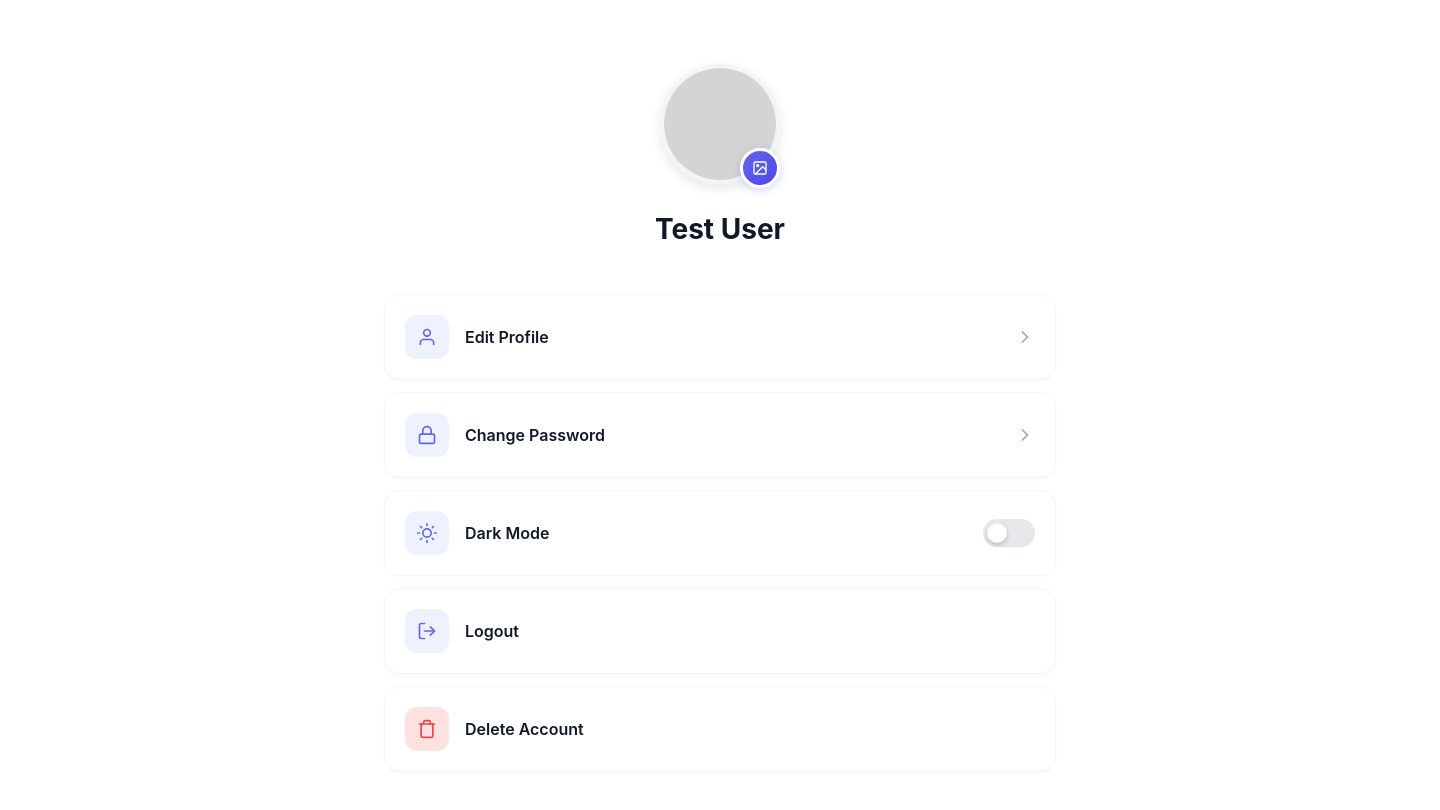
Test: MyProfilePage - Delete Account › Delete Account Button › should open confirmation modal when Delete Account button is clicked
Expected: the text "Delete Account" is shown, x1=465 y1=719 x2=584 y2=739
Step 1. Click the button "Delete Account" → (427, 729), box x1=384 y1=686 x2=1056 y2=772
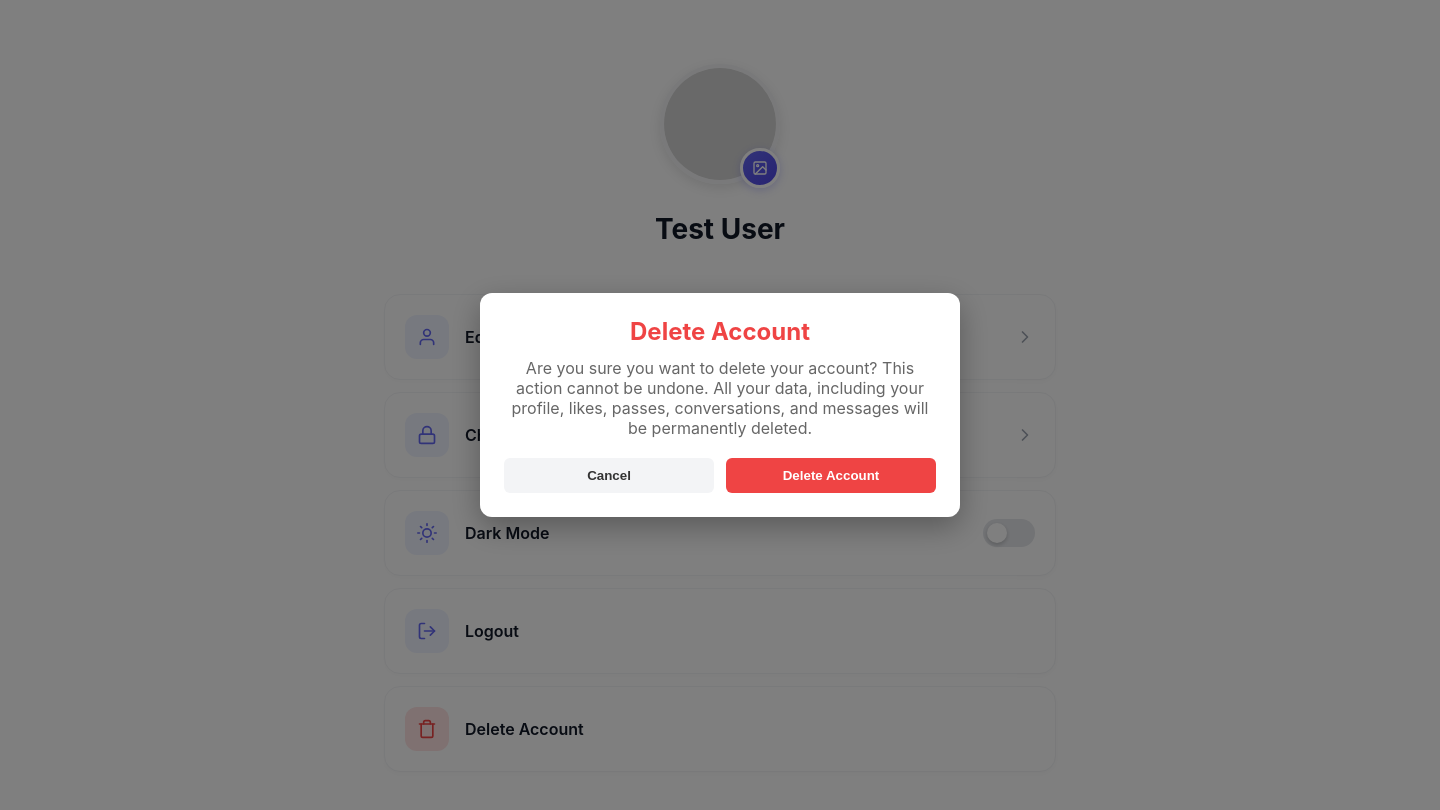
Expected: the heading "Delete Account" is shown, x1=630 y1=317 x2=810 y2=346
Expected: the text "Are you sure you want to delete your account? This action cannot be undone" is shown, x1=512 y1=358 x2=928 y2=438
